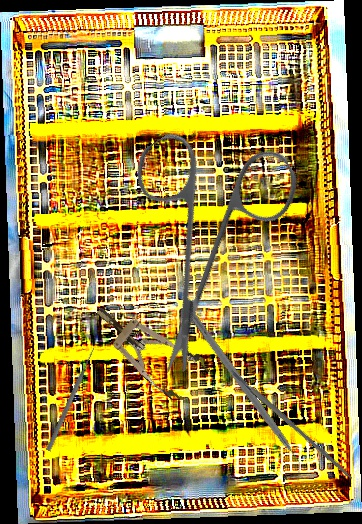Chopper: (175, 305, 311, 483)
Iris Scissors: (59, 87, 353, 379)
Pusher: (45, 346, 97, 453)
Scalpel Handle: (229, 367, 355, 482)
Speculum: (83, 289, 213, 407)
